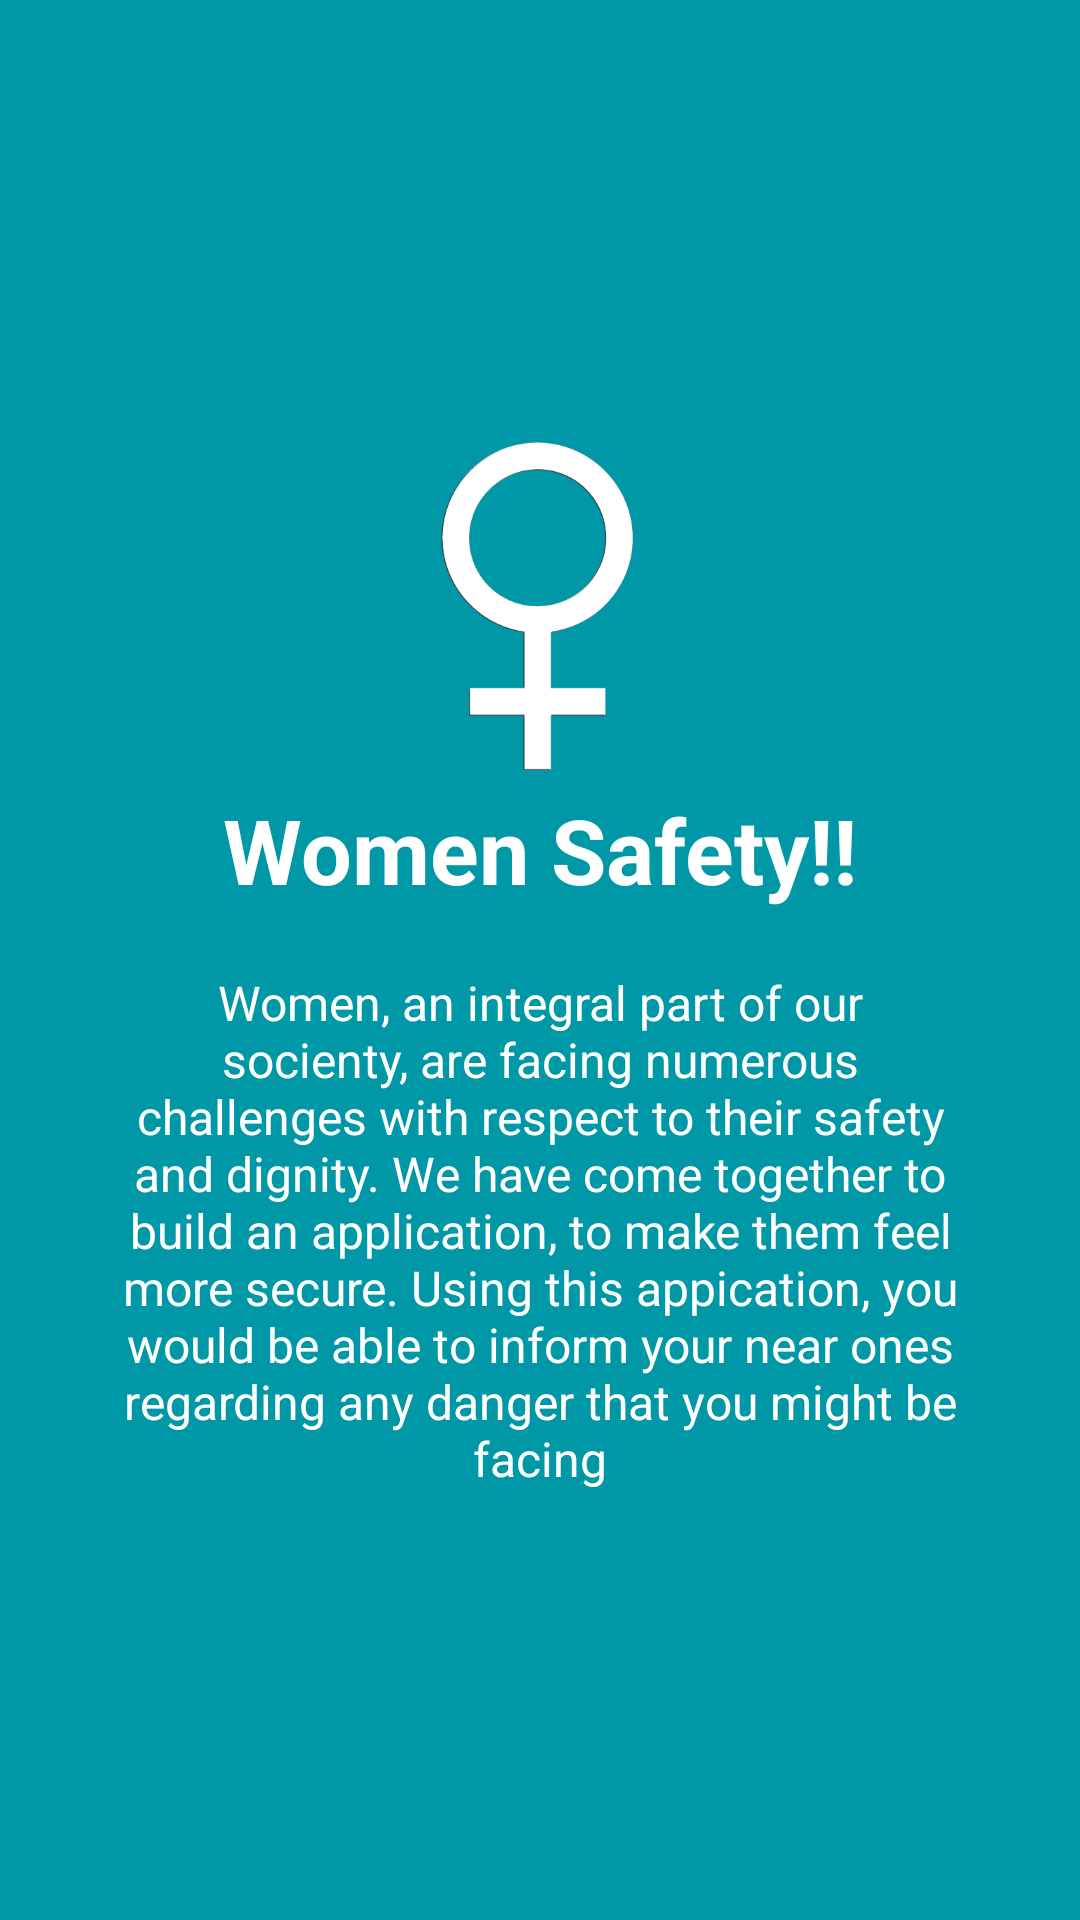

Screen size 1080 x 1920. Icon name, then its center in pixels as (x,y):
female: (537,606)
